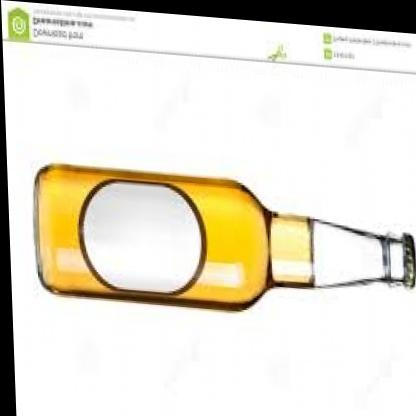trash: (35, 165, 414, 309)
